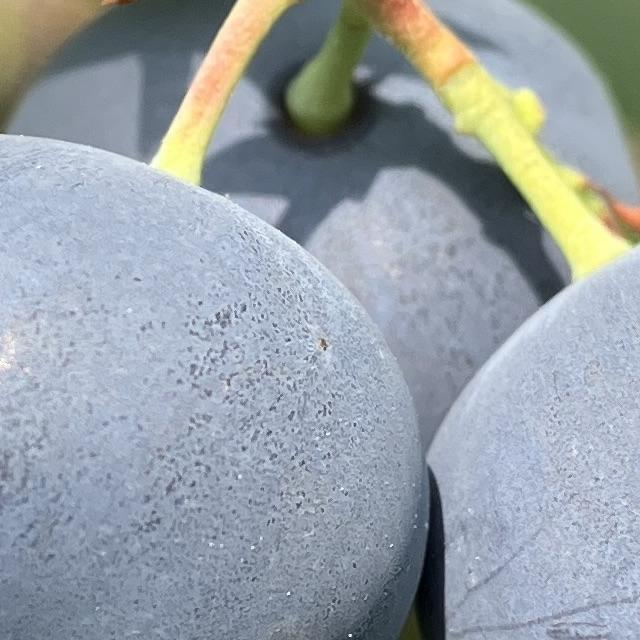Blueberries: (0, 124, 429, 640), (417, 173, 640, 640)
